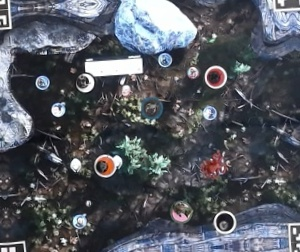black: (200, 149, 236, 181), (210, 205, 239, 235)
brown_turquoise: (140, 96, 164, 120)
orange: (93, 152, 118, 176)
pink_green: (167, 197, 195, 224)
red: (203, 64, 227, 89)
white: (73, 70, 97, 94)
